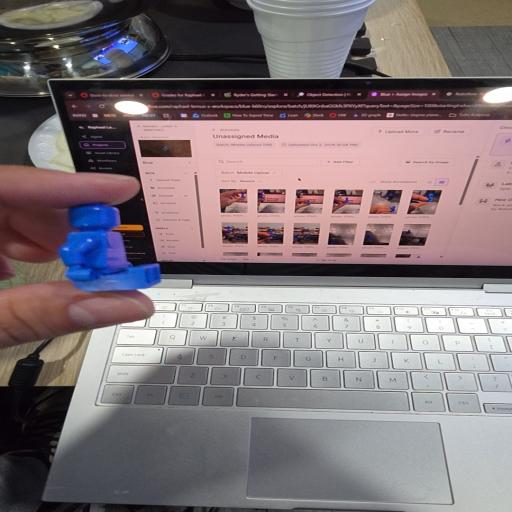Blue: (60, 203, 160, 291)
